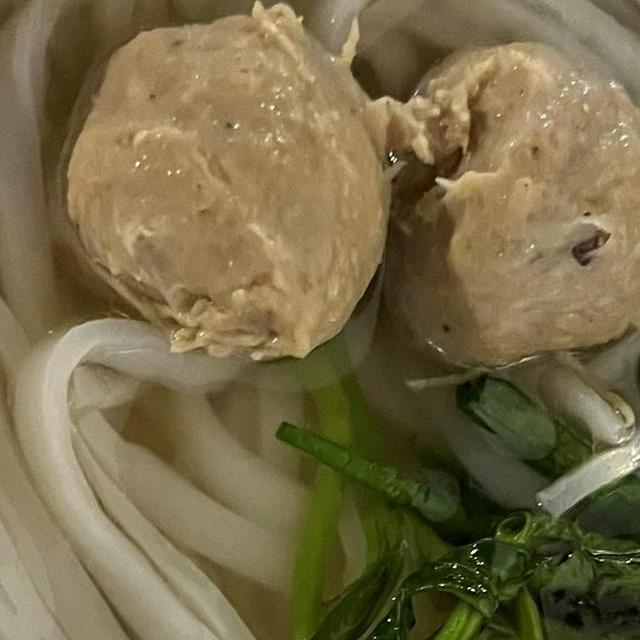banh pho: (0, 0, 640, 421), (0, 231, 394, 640)
